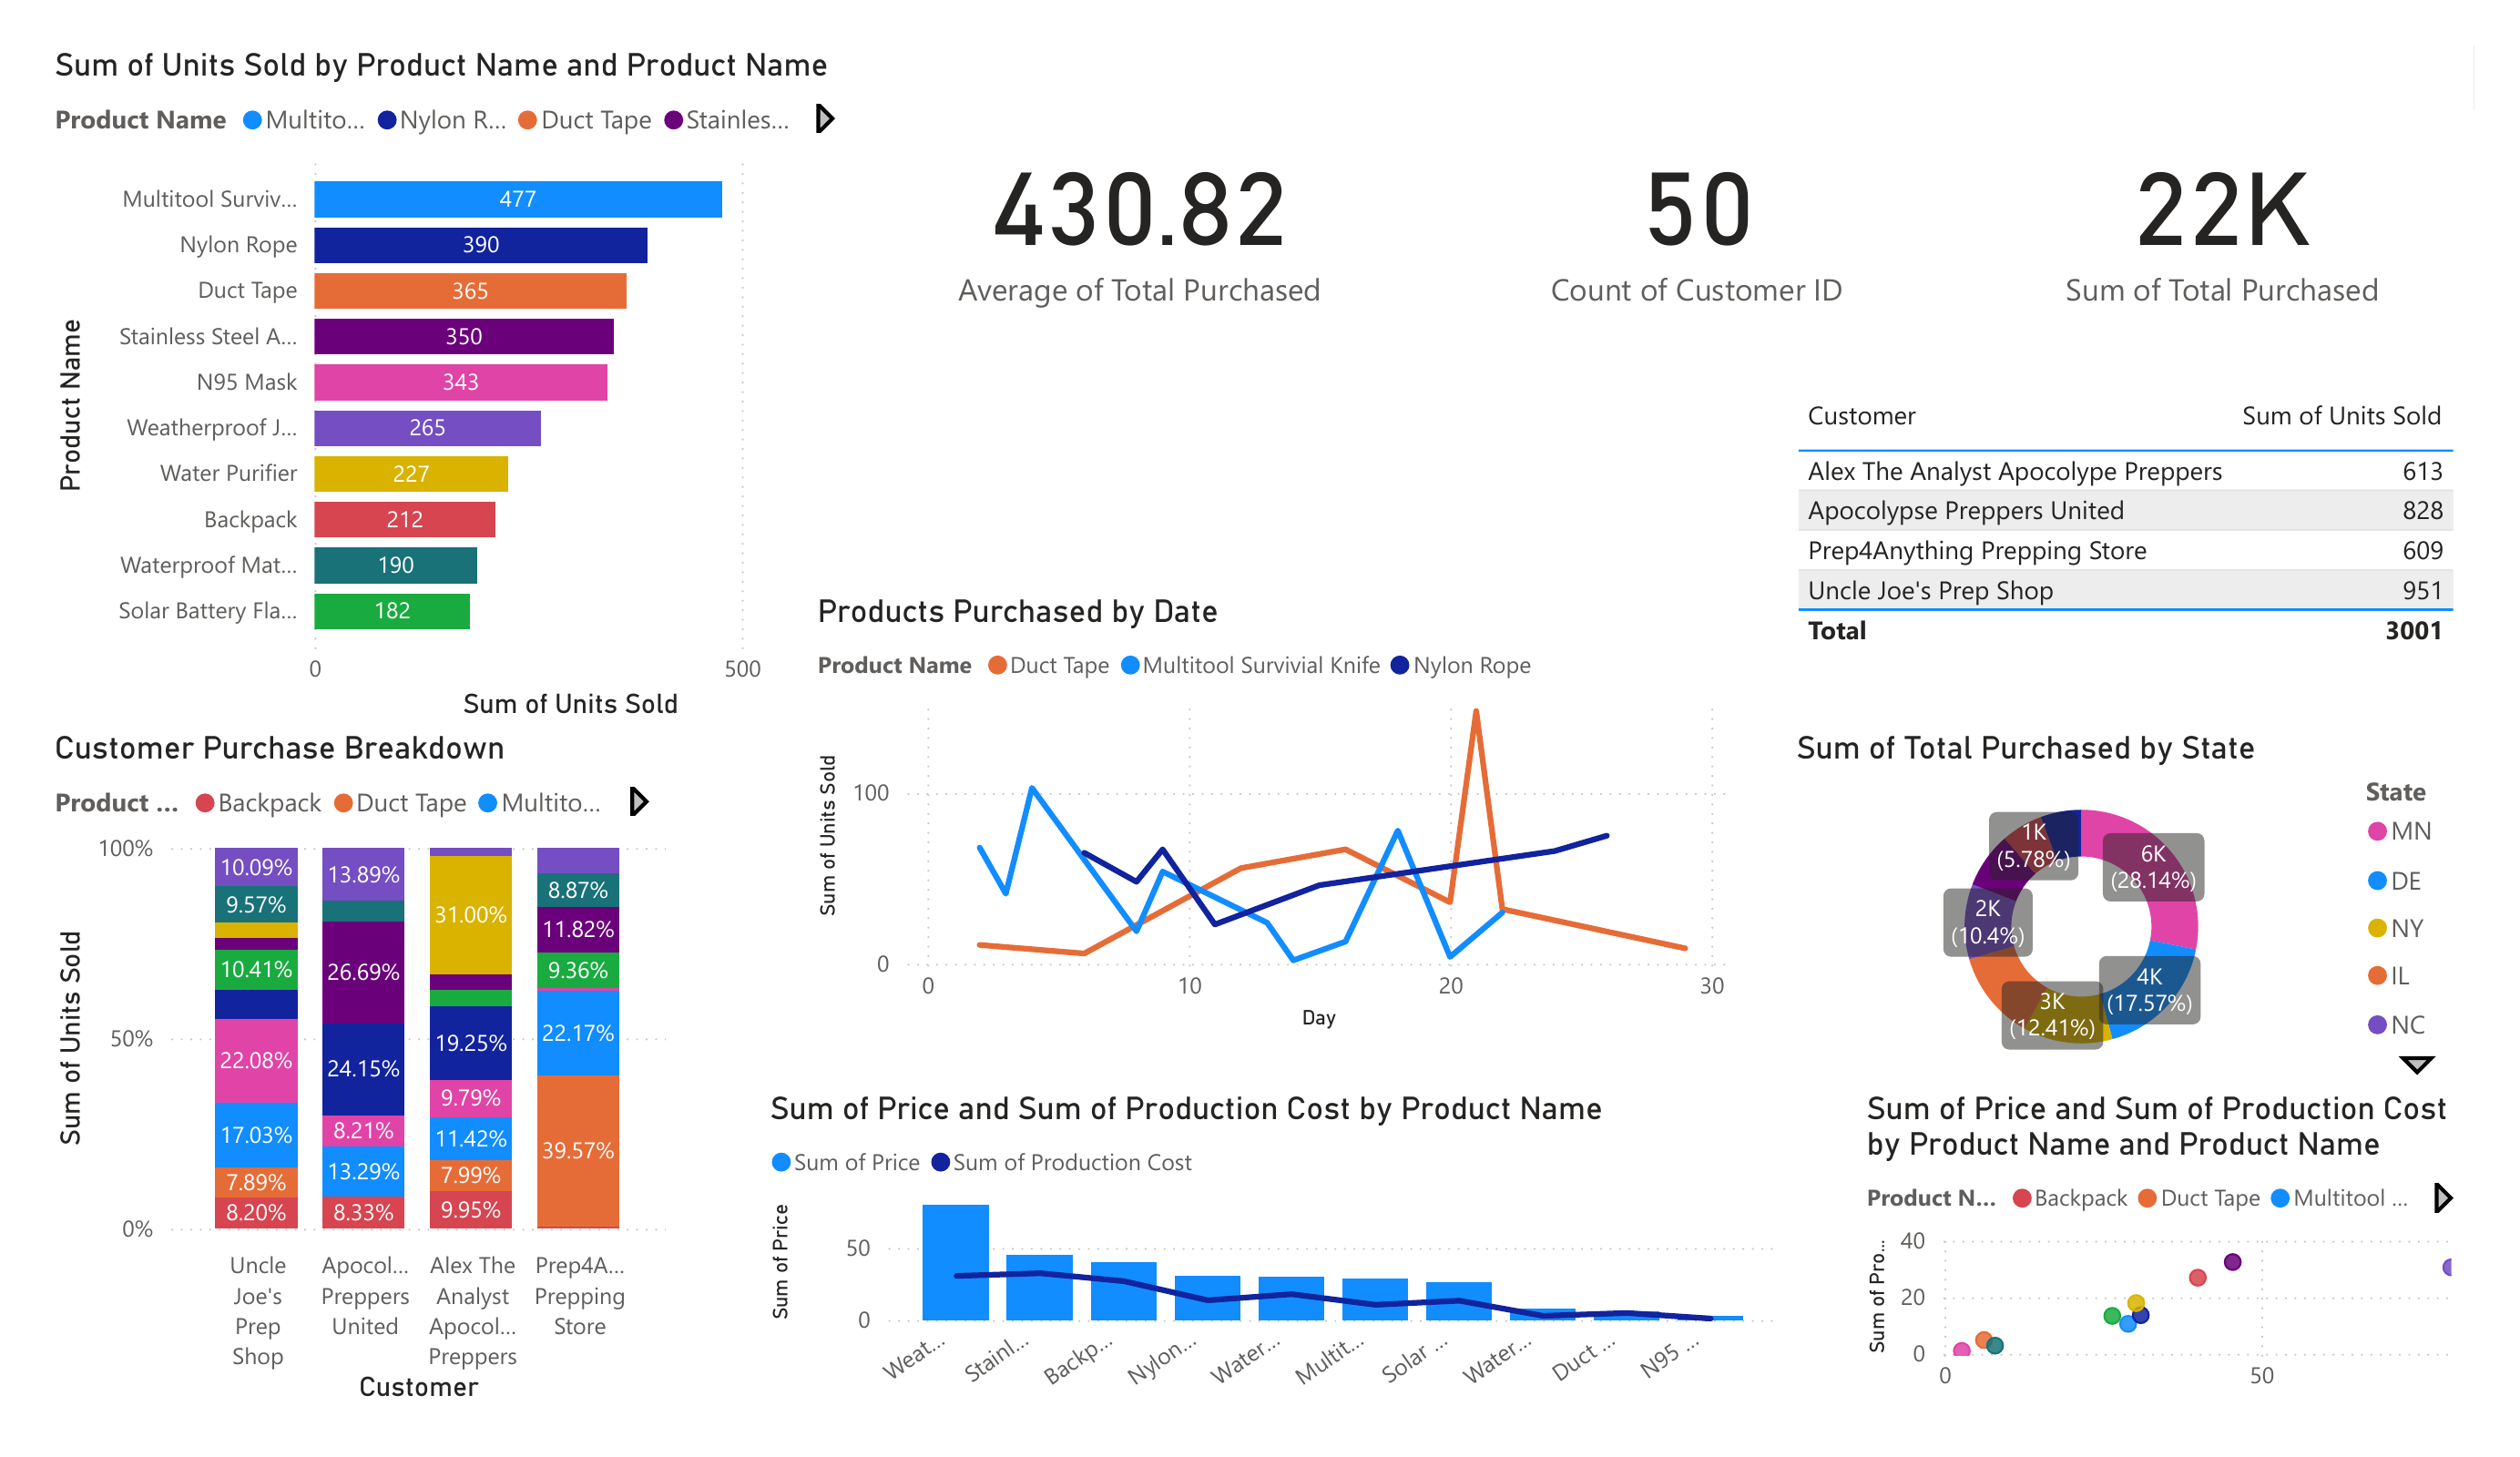

The dashboard page shown, as its layout file describes it:
{"tool":"powerbi","page":{"name":"Page 1","canvas":[1280,720],"ordinal":0},"visuals":[{"type":"barChart","fields":{"Category":["Apocolypse Store.Product Name"],"Y":["Apocolypse Sales.Units Sold"],"Series":["Apocolypse Store.Product Name"]},"box":[0,0,426.8,359.5],"z":0},{"type":"hundredPercentStackedColumnChart","title":"Customer Purchase Breakdown","fields":{"Category":["Customer Information.Customer"],"Y":["Apocolypse Sales.Units Sold"],"Series":["Apocolypse Store.Product Name"]},"box":[0,359.5,332.1,360.9],"z":1000},{"type":"lineChart","title":"Products Purchased by Date","fields":{"Category":["Apocolypse Sales.Date Purchased.Variation.Date Hierarchy.Day"],"Y":["Apocolypse Sales.Units Sold"],"Series":["Apocolypse Store.Product Name"]},"box":[402.1,288.2,491.3,236],"z":2000},{"type":"lineStackedColumnComboChart","fields":{"Category":["Apocolypse Store.Product Name"],"Y":["Apocolypse Store.Price"],"Y2":["Apocolypse Store.Production Cost"]},"box":[377.4,550.3,540.7,170.2],"z":3000},{"type":"scatterChart","fields":{"X":["Apocolypse Store.Price"],"Y":["Apocolypse Store.Production Cost"],"Category":["Apocolypse Store.Product Name"],"Series":["Apocolypse Store.Product Name"]},"box":[955.1,550.3,325.2,170.2],"z":3001},{"type":"donutChart","fields":{"Category":["Customer Buyer Information.State"],"Y":["Customer Buyer Information.Total Purchased"]},"box":[918,359.5,362.3,190.7],"z":3002},{"type":"card","fields":{"Values":["Customer Buyer Information.Total Purchased"]},"box":[1015.4,0,264.8,179.8],"z":3003},{"type":"card","fields":{"Values":["Customer Buyer Information.Customer ID"]},"box":[727.3,0,286.8,179.8],"z":3004},{"type":"card","fields":{"Values":["Customer Buyer Information.Total Purchased"]},"box":[426.8,0,300.5,179.8],"z":3005},{"type":"tableEx","fields":{"Values":["Customer Information.Customer","Apocolypse Sales.Units Sold"]},"box":[918,179.8,362.3,179.8],"z":3006}]}

Visuals, with their boxes on the page's 1280x720 design canvas (x1, y1, x2, y2). These are canvas units, not pixel positions in the 2520x1457 screenshot, which may show the page scaled, cropped or inside an application window:
barChart - Apocolypse Store.Product Name x Apocolypse Sales.Units Sold: region(0, 0, 427, 360)
"Customer Purchase Breakdown" hundredPercentStackedColumnChart: region(0, 360, 332, 720)
"Products Purchased by Date" lineChart: region(402, 288, 893, 524)
lineStackedColumnComboChart - Apocolypse Store.Product Name x Apocolypse Store.Price: region(377, 550, 918, 720)
scatterChart - Apocolypse Store.Price x Apocolypse Store.Production Cost: region(955, 550, 1280, 720)
donutChart - Customer Buyer Information.State x Customer Buyer Information.Total Purchased: region(918, 360, 1280, 550)
card - Customer Buyer Information.Total Purchased: region(1015, 0, 1280, 180)
card - Customer Buyer Information.Customer ID: region(727, 0, 1014, 180)
card - Customer Buyer Information.Total Purchased: region(427, 0, 727, 180)
tableEx - Customer Information.Customer x Apocolypse Sales.Units Sold: region(918, 180, 1280, 360)
